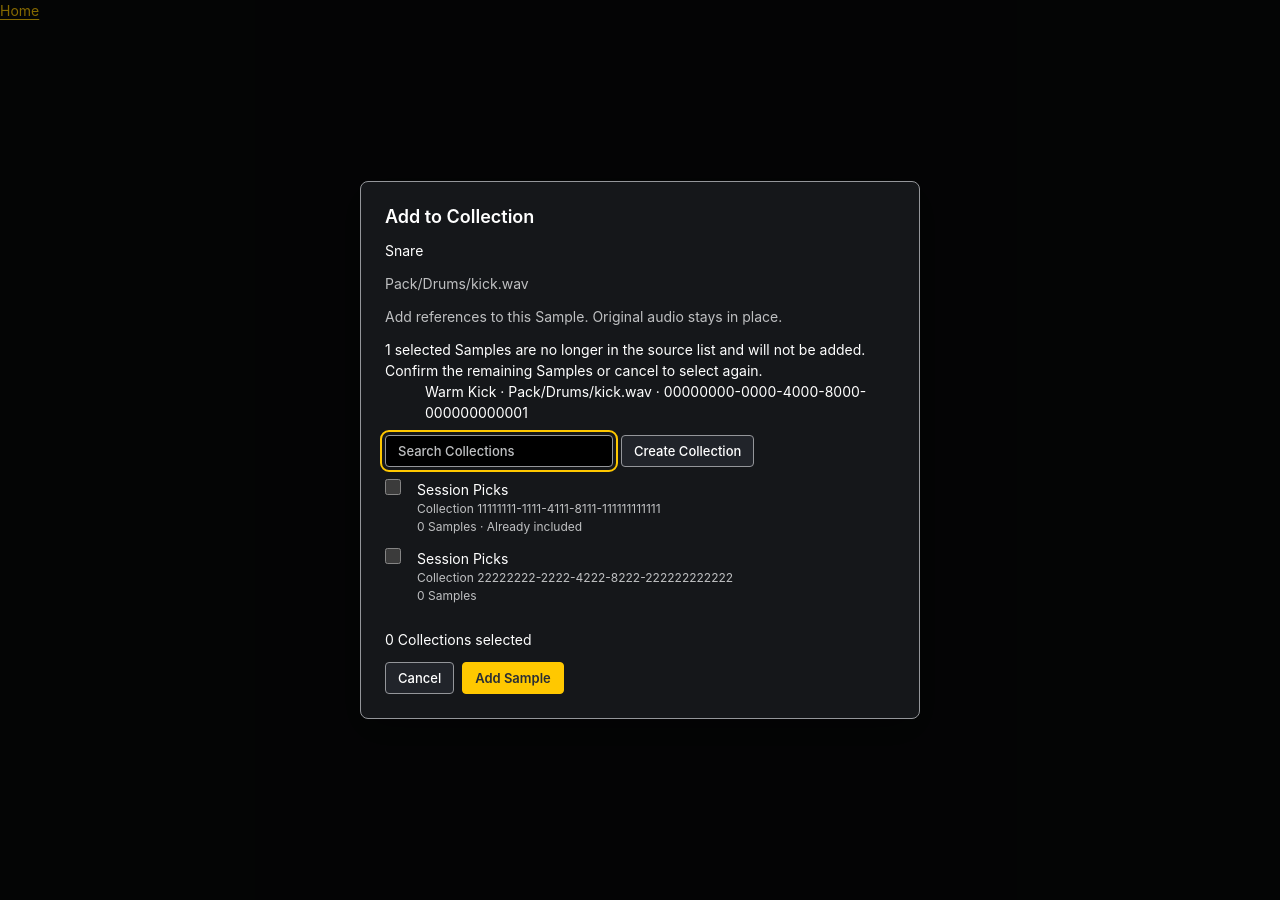
Test case: review identifies missing selections and requires explicit confirmation of the remaining scope
Check: the element named "Unavailable selections" shows "1 selected Samples are no longer in the source list", box [385, 339, 895, 423]
Check: the element named "Unavailable selections" shows "00000000-0000-4000-8000-000000000001", box [425, 383, 866, 421]
Click the checkbox labelled "11111111-1111-4111-8111-111111111111": (393, 487) [385, 479, 401, 495]
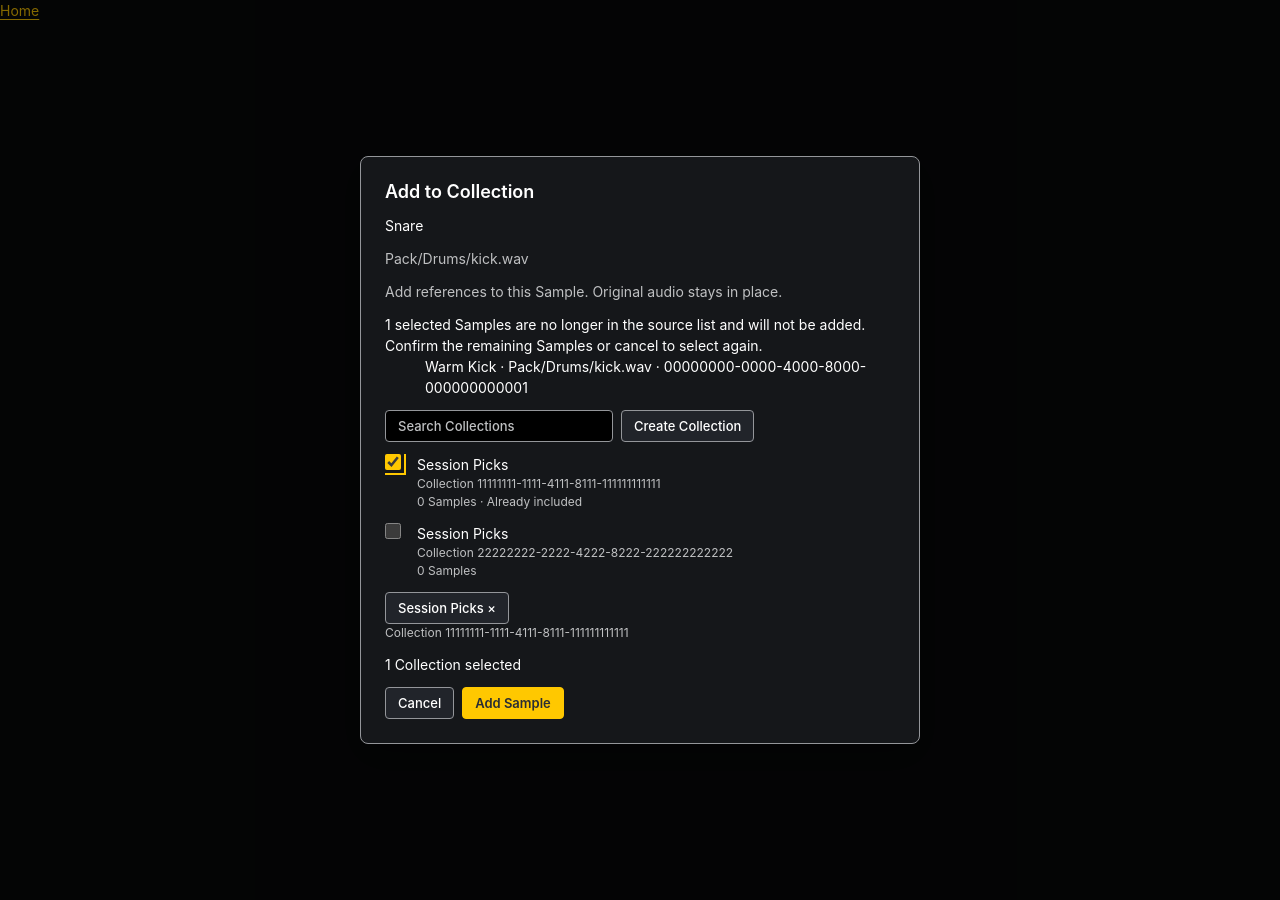
Click the button "Add Sample": (513, 703) [462, 687, 564, 719]
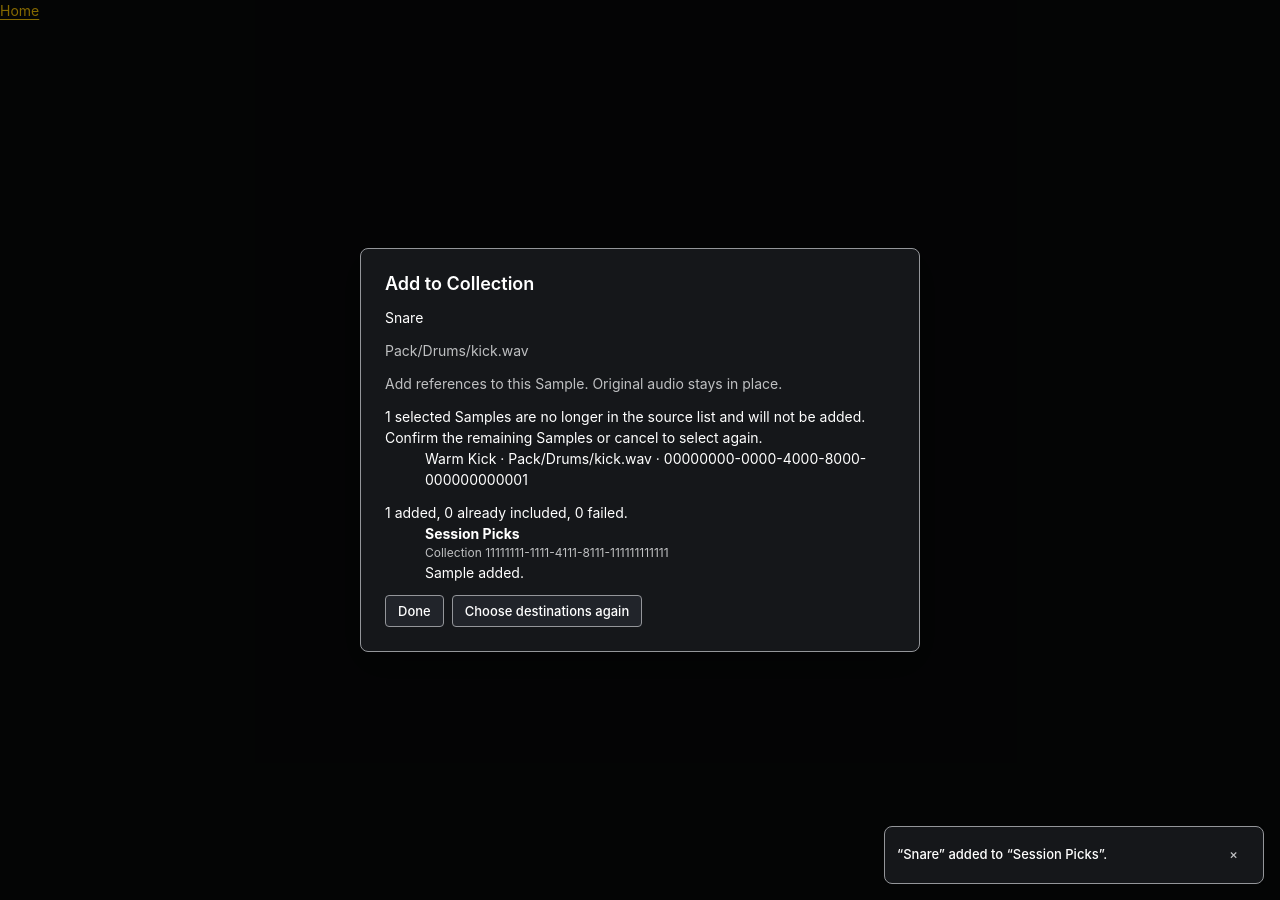
Check: the element named "Collection results" shows "1 added, 0 already included, 0 failed.", box [385, 504, 669, 581]
